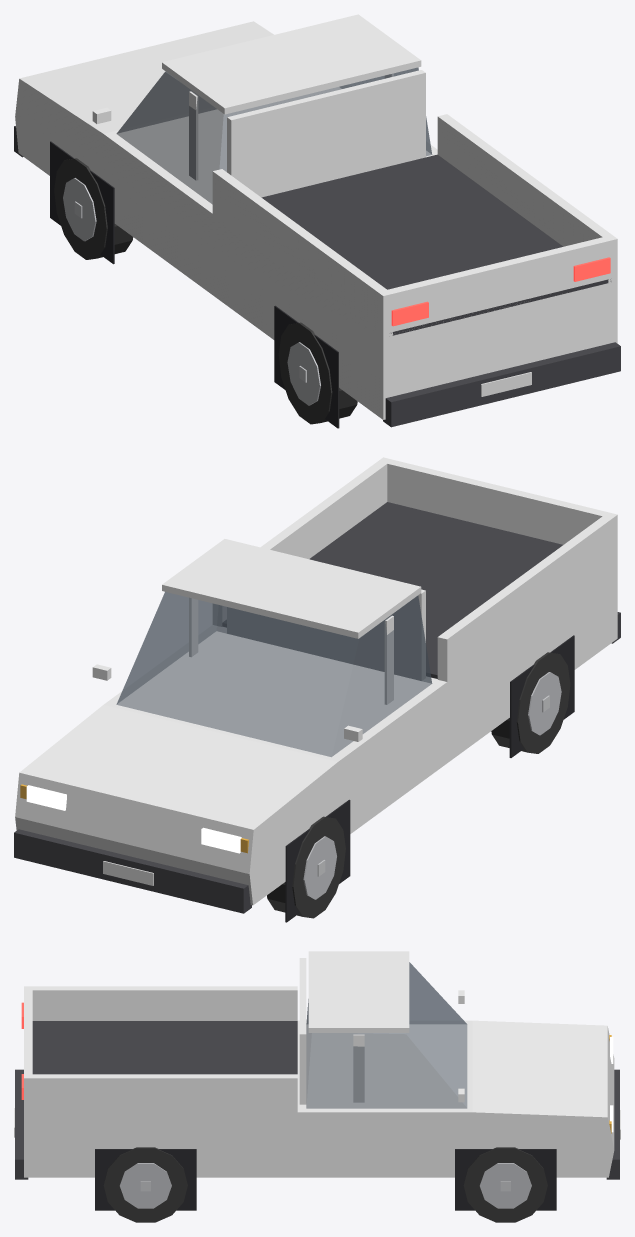
File: pickup.glb
3 views of the same model, one above another, from view 1: azimuth 30°, elevation 25°; view 2: azimuth 150°, elevation 25°; view 3: azimuth 270°, elevation 25° (orthographic). The views are drawn at different scales.
Parts seen in each view (by area): view 1: body, bed_floor, cab_back, roof, bed_side-1, tailgate, cabin, bed_side1, bumper_rear, wheel_lf, wheel_lb, arch_lb (+5 smaller); view 2: body, cabin, bed_floor, roof, bed_side-1, tailgate, cab_back, bumper_front, bed_side1, wheel_lf, wheel_lb, arch_lf (+5 smaller); view 3: body, cabin, bed_floor, bed_side1, bed_side-1, roof, wheel_rb, wheel_rf, arch_rf, arch_rb, cab_back, bumper_rear (+3 smaller).
Part boxes in pixels (x1,y1,x2,y2): body: [15, 21, 617, 419]; bed_floor: [261, 154, 611, 335]; cab_back: [227, 70, 425, 197]; roof: [162, 14, 421, 114]; bed_side-1: [212, 169, 392, 338]; tailgate: [377, 237, 617, 338]; cabin: [116, 67, 432, 204]; bed_side1: [437, 114, 617, 283]; bumper_rear: [383, 342, 620, 427]; wheel_lf: [54, 158, 133, 259]; wheel_lb: [278, 322, 357, 424]; arch_lb: [274, 305, 339, 428]; body: [15, 557, 617, 905]; cabin: [116, 592, 432, 756]; bed_floor: [222, 502, 562, 678]; roof: [162, 539, 421, 638]; bed_side-1: [437, 512, 617, 681]; tailgate: [380, 457, 617, 560]; cab_back: [227, 589, 425, 680]; bumper_front: [14, 829, 251, 913]; bed_side1: [213, 457, 391, 626]; wheel_lf: [267, 816, 345, 918]; wheel_lb: [491, 652, 570, 753]; arch_lf: [285, 799, 350, 922]; body: [24, 1020, 614, 1177]; cabin: [306, 962, 467, 1108]; bed_floor: [32, 1021, 297, 1074]; bed_side1: [24, 1074, 297, 1112]; bed_side-1: [24, 986, 297, 1020]; roof: [308, 951, 409, 1032]; wheel_rb: [103, 1147, 187, 1222]; wheel_rf: [463, 1147, 547, 1222]; arch_rf: [455, 1149, 556, 1210]; arch_rb: [95, 1149, 196, 1210]; cab_back: [299, 958, 306, 1104]; bumper_rear: [15, 1069, 28, 1179].
Size of the model in its own units: 2.22 by 1.86 by 5.48.
